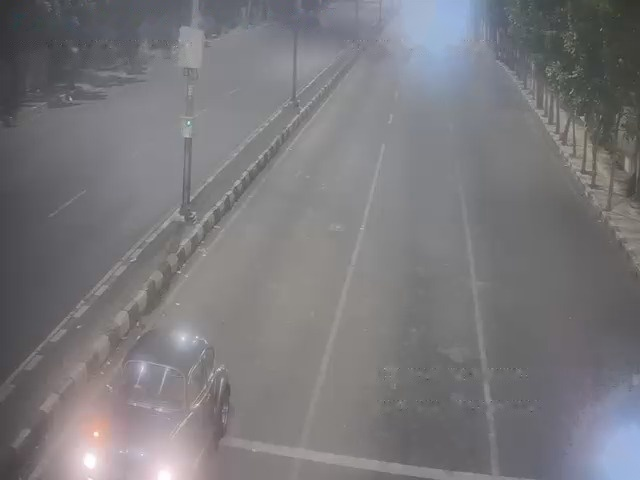Mobil: (98, 326, 224, 480)
